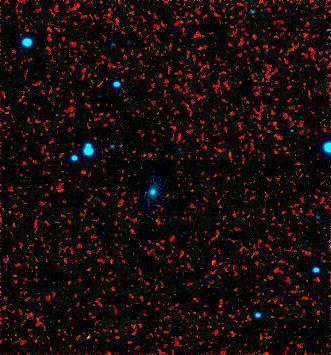star: (197, 245, 227, 275)
